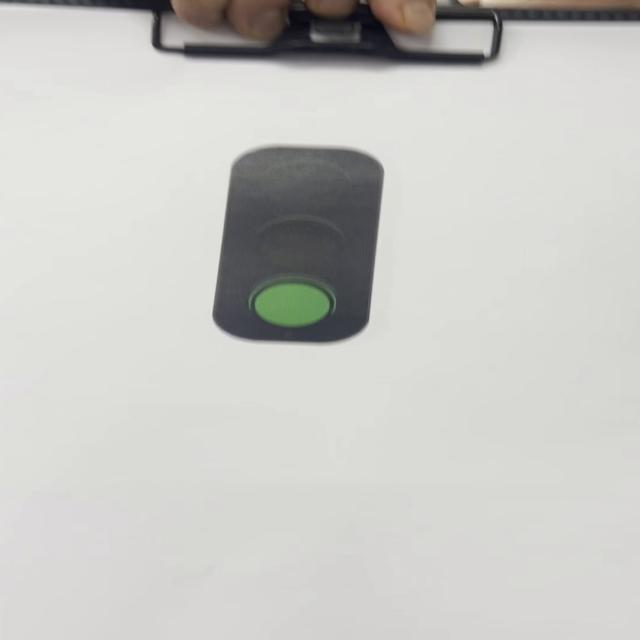green: (210, 140, 385, 350)
